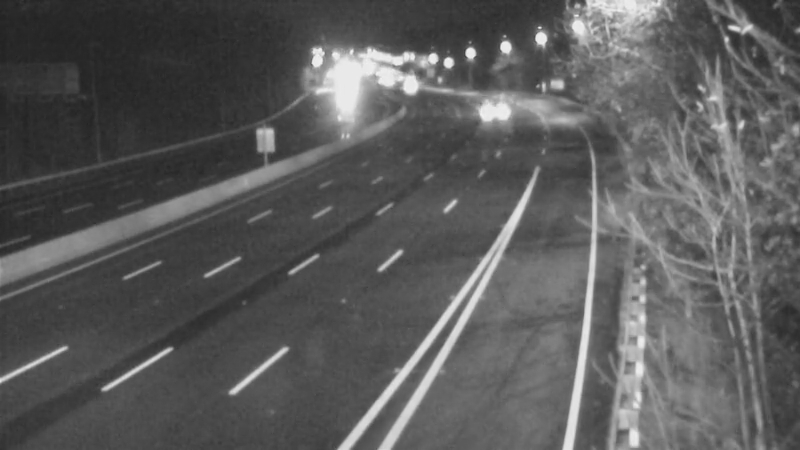vehicle: (385, 60, 435, 110), (467, 90, 517, 140), (324, 75, 374, 125)
